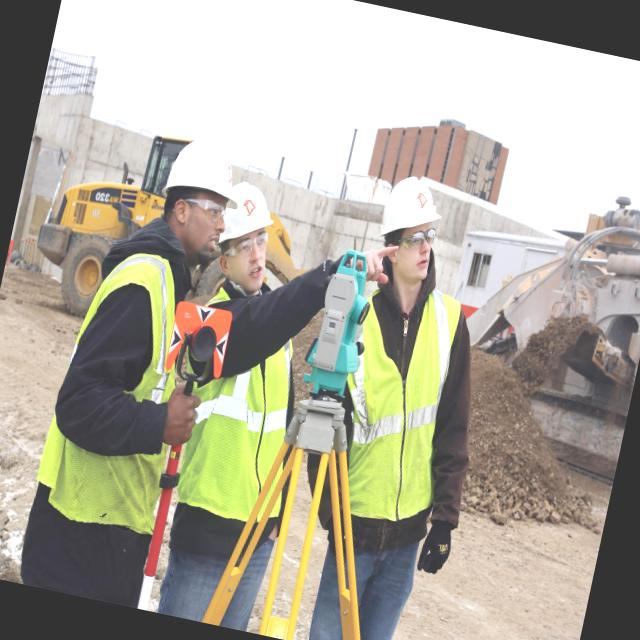helmet: (366, 158, 459, 251), (158, 132, 242, 212), (217, 166, 285, 248)
vest: (35, 238, 206, 526), (315, 272, 467, 541), (174, 293, 312, 536)
